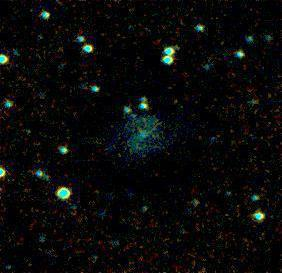star: (129, 104, 159, 134)
